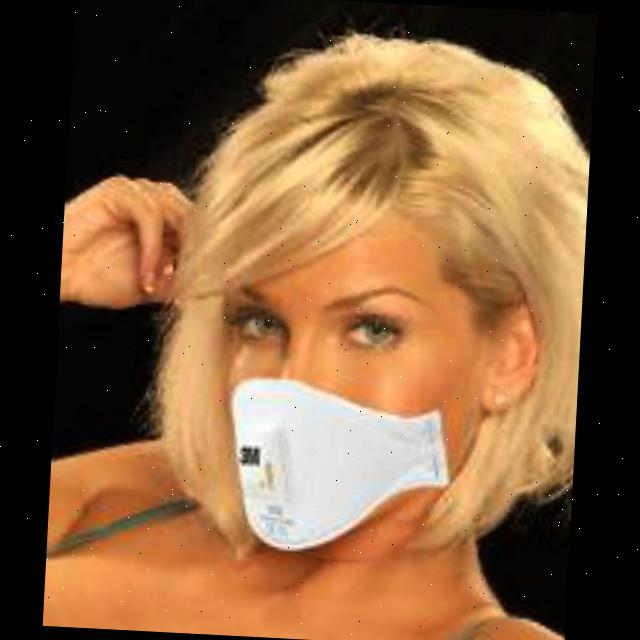suspicion: (178, 102, 544, 544)
